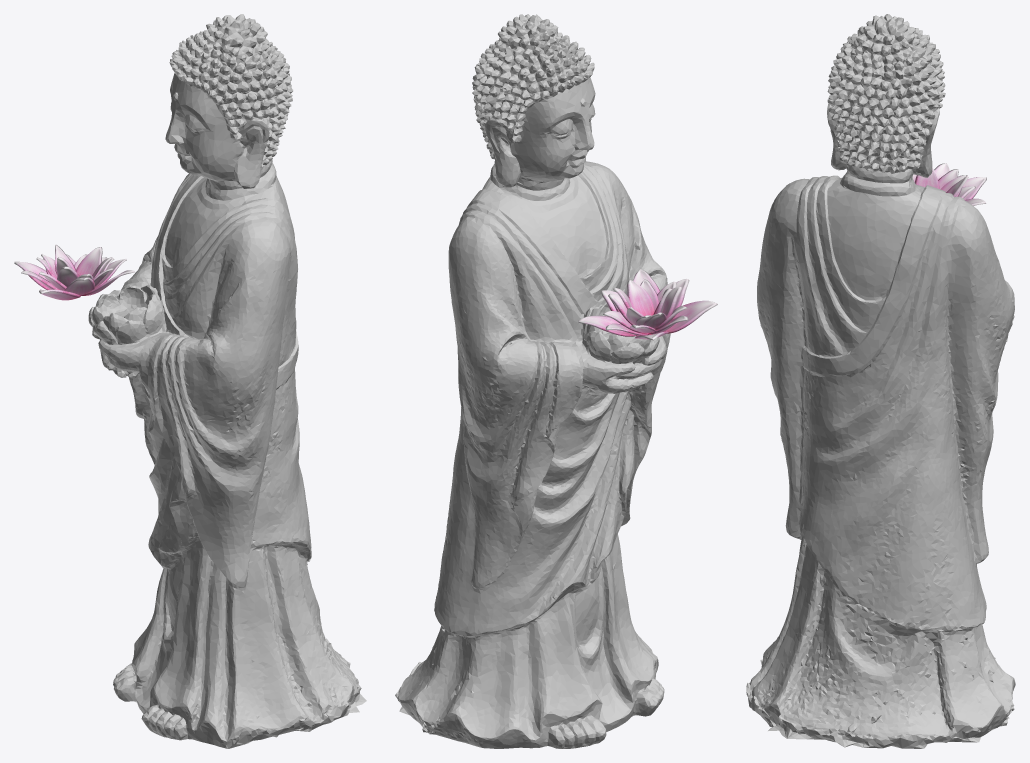
Rendered from buddhaL.fbx.
The picture shows the model from 3 angles, left to right: view 1: azimuth 30°, elevation 25°; view 2: azimuth 150°, elevation 25°; view 3: azimuth 270°, elevation 25°; orthographic projection.
Visible parts, largest first — view 1: model.001, Plane; view 2: model.001, Plane; view 3: model.001, Plane.
Boxes of the visible parts, x1,y1,x2,y2 form: model.001: (88,14,366,748); Plane: (14,244,134,300); model.001: (395,14,670,748); Plane: (578,269,717,340); model.001: (746,14,1015,748); Plane: (912,163,986,205).
Bounding box in the file's own units: 2022 × 4471 × 1588.
